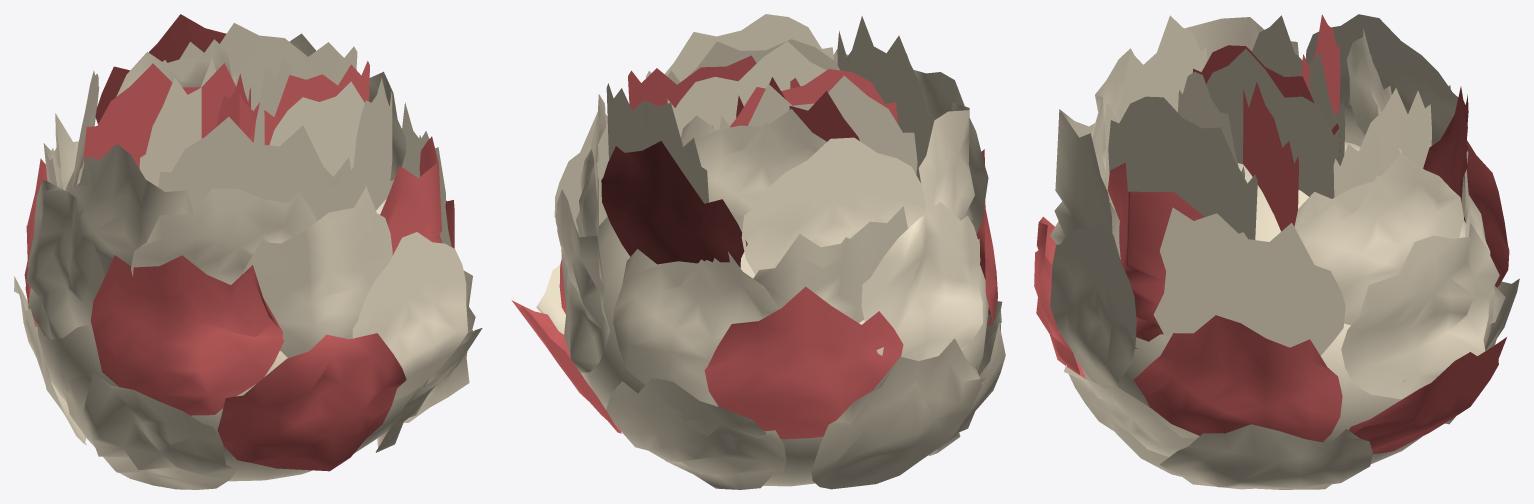
The model's file is Fungel_Head.fbx.
The picture shows the model from 3 angles, left to right: view 1: azimuth 30°, elevation 25°; view 2: azimuth 150°, elevation 25°; view 3: azimuth 270°, elevation 25°; orthographic projection. The views are drawn at different scales.
Visible parts, largest first — view 1: pasted__pasted__pasted__group9_pasted__pDisc1; view 2: pasted__pasted__pasted__group9_pasted__pDisc1; view 3: pasted__pasted__pasted__group9_pasted__pDisc1.
Part boxes in pixels (bbox=[...]): pasted__pasted__pasted__group9_pasted__pDisc1: bbox=[14, 14, 482, 489]; pasted__pasted__pasted__group9_pasted__pDisc1: bbox=[511, 14, 1005, 489]; pasted__pasted__pasted__group9_pasted__pDisc1: bbox=[1034, 14, 1519, 489].
Size of the model in its own units: 2.46 by 2.24 by 2.39.
